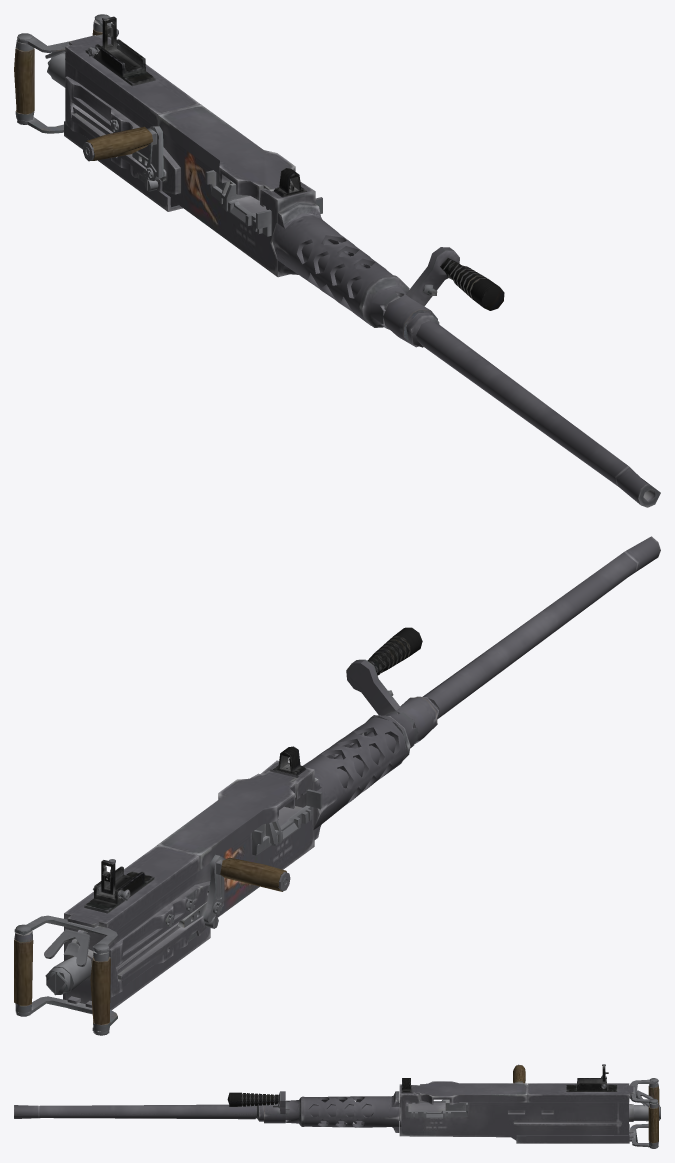
3 views of the same model, one above another, from view 1: azimuth 30°, elevation 25°; view 2: azimuth 150°, elevation 25°; view 3: azimuth 270°, elevation 25° (orthographic). The views are drawn at different scales.
Visible parts, largest first — view 1: Base_Lowpoly_m2b_0; view 2: Base_Lowpoly_m2b_0; view 3: Base_Lowpoly_m2b_0.
Part boxes in pixels (x1,y1,x2,y2): Base_Lowpoly_m2b_0: (14, 14, 660, 507); Base_Lowpoly_m2b_0: (14, 536, 660, 1035); Base_Lowpoly_m2b_0: (14, 1064, 660, 1148).
Bounding box in the file's own units: 0.2596 × 0.2124 × 1.73.
1 material, 1 textured.
